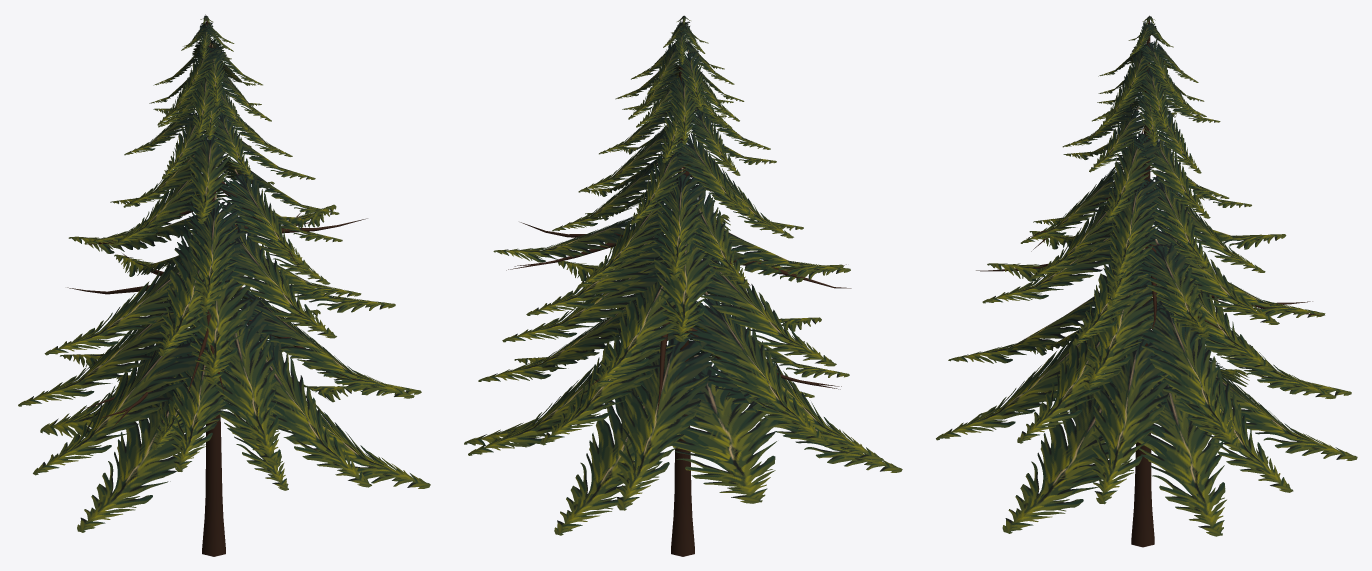
The model's file is Tree.fbx.
3 renders of one model, left to right at view 1: azimuth 30°, elevation 25°; view 2: azimuth 150°, elevation 25°; view 3: azimuth 270°, elevation 25°, orthographic. The views are drawn at different scales.
Parts seen in each view (by area): view 1: Leaves, Trunk; view 2: Leaves, Trunk; view 3: Leaves, Trunk.
Boxes of the visible parts, box(x1,y1,x2,y2) form: Leaves: box(18, 15, 430, 532); Trunk: box(67, 14, 367, 556); Leaves: box(464, 16, 902, 535); Trunk: box(506, 15, 851, 556); Leaves: box(936, 16, 1357, 536); Trunk: box(976, 15, 1322, 547).
Size of the model in its own units: 1696 by 2298 by 1690.
